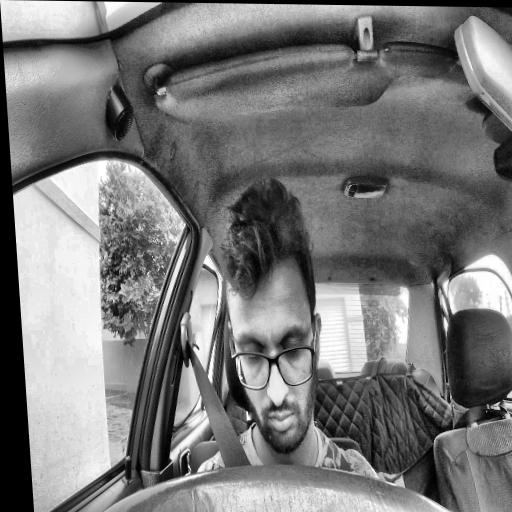drowsy: (216, 179, 330, 457)
